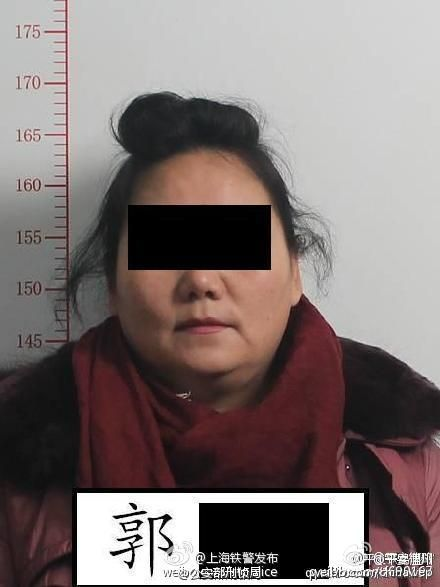no_mask: (87, 84, 314, 390)
